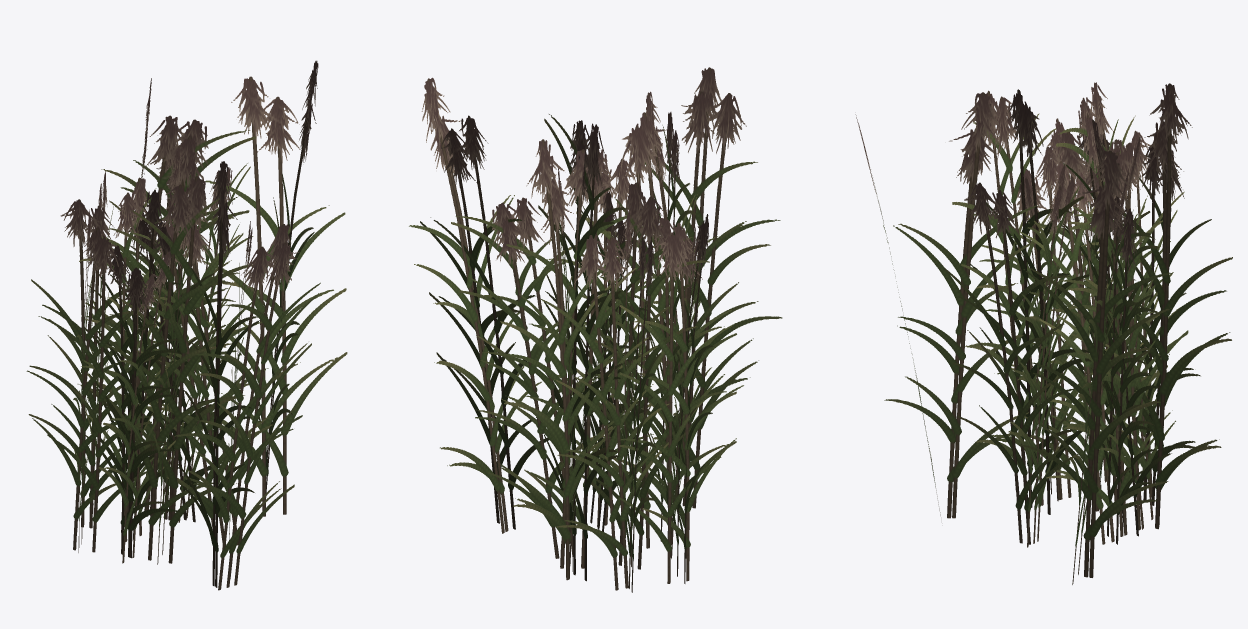
File: rakos_1.glb
3 renders of one model, left to right at view 1: azimuth 30°, elevation 25°; view 2: azimuth 150°, elevation 25°; view 3: azimuth 270°, elevation 25°, orthographic. The views are drawn at different scales.
Parts seen in each view (by area): view 1: rakos_1; view 2: rakos_1; view 3: rakos_1.
Part boxes in pixels (left/top/right/bottom): rakos_1: left=26, top=60, right=347, bottom=590; rakos_1: left=409, top=67, right=782, bottom=592; rakos_1: left=855, top=82, right=1232, bottom=584.
Bounding box in the file's own units: 2.01 × 2.77 × 2.
1 material, 1 textured.
